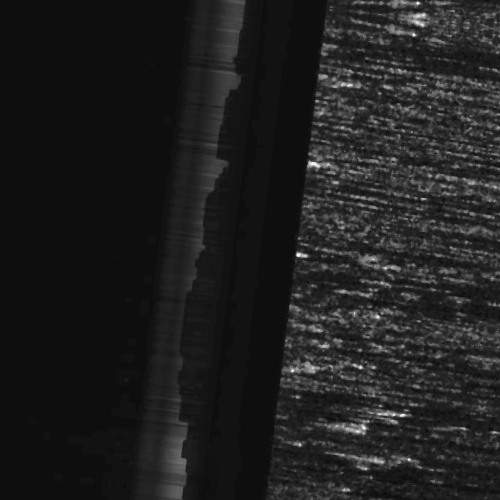shadow: (352, 310, 500, 327)
